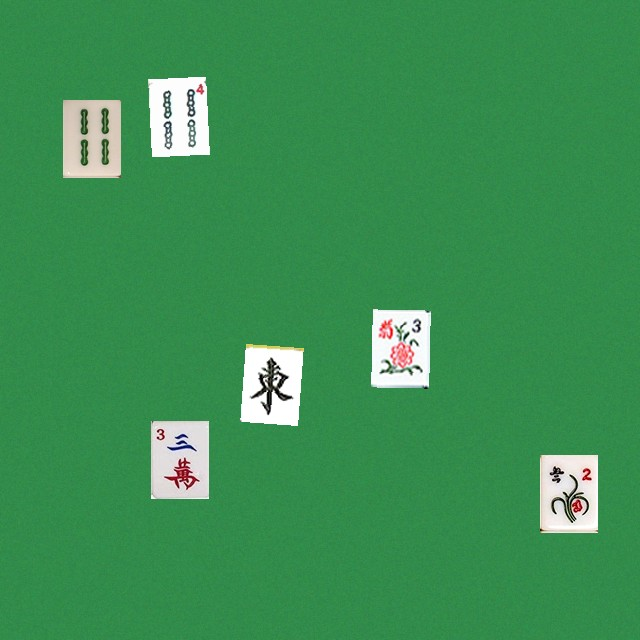tile: (539, 454, 597, 532), (240, 343, 298, 421), (148, 76, 206, 154), (62, 99, 120, 177), (150, 420, 208, 498), (371, 309, 429, 387)
